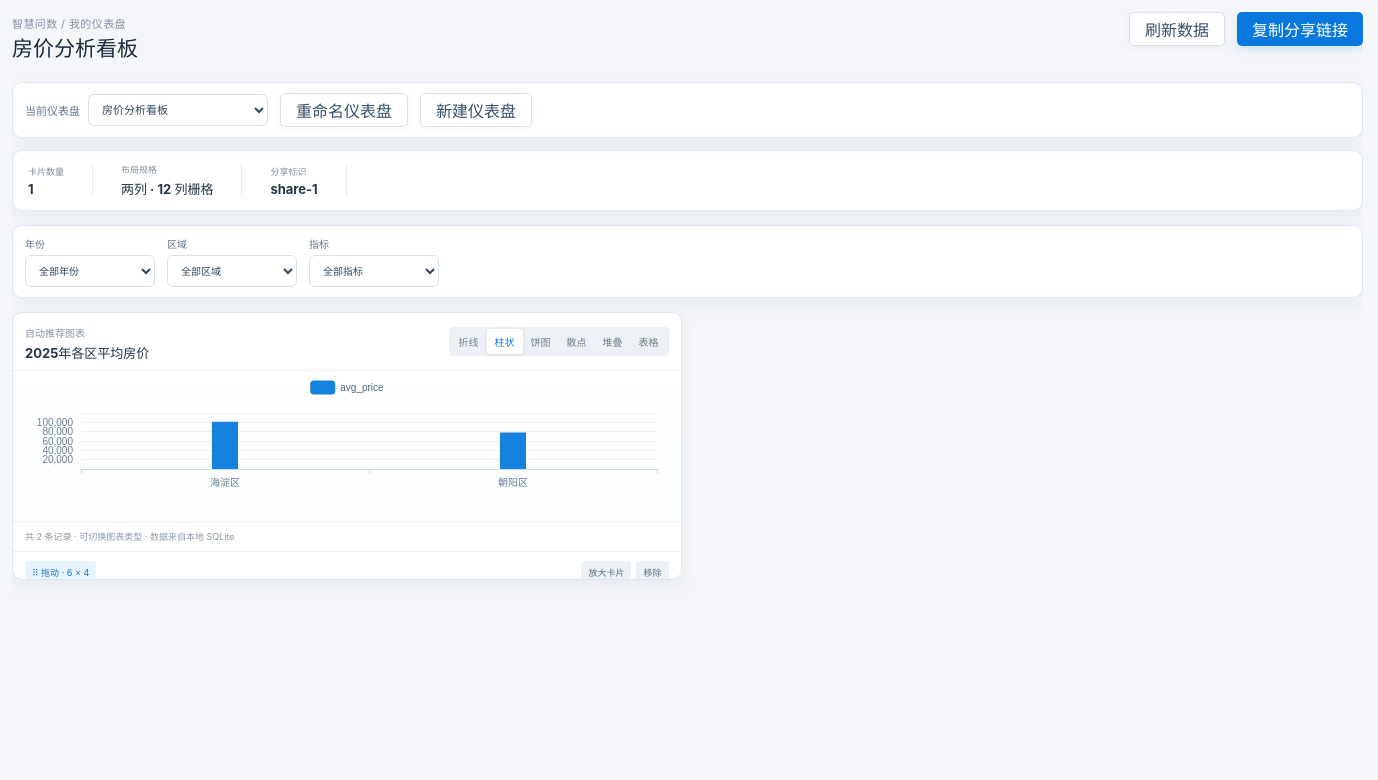
Test: does not rename a dashboard with a blank name
Check: the heading "房价分析看板" is shown, box [12,36,138,61]
Click the button "重命名仪表盘": [344, 110] box [280,93,408,127]
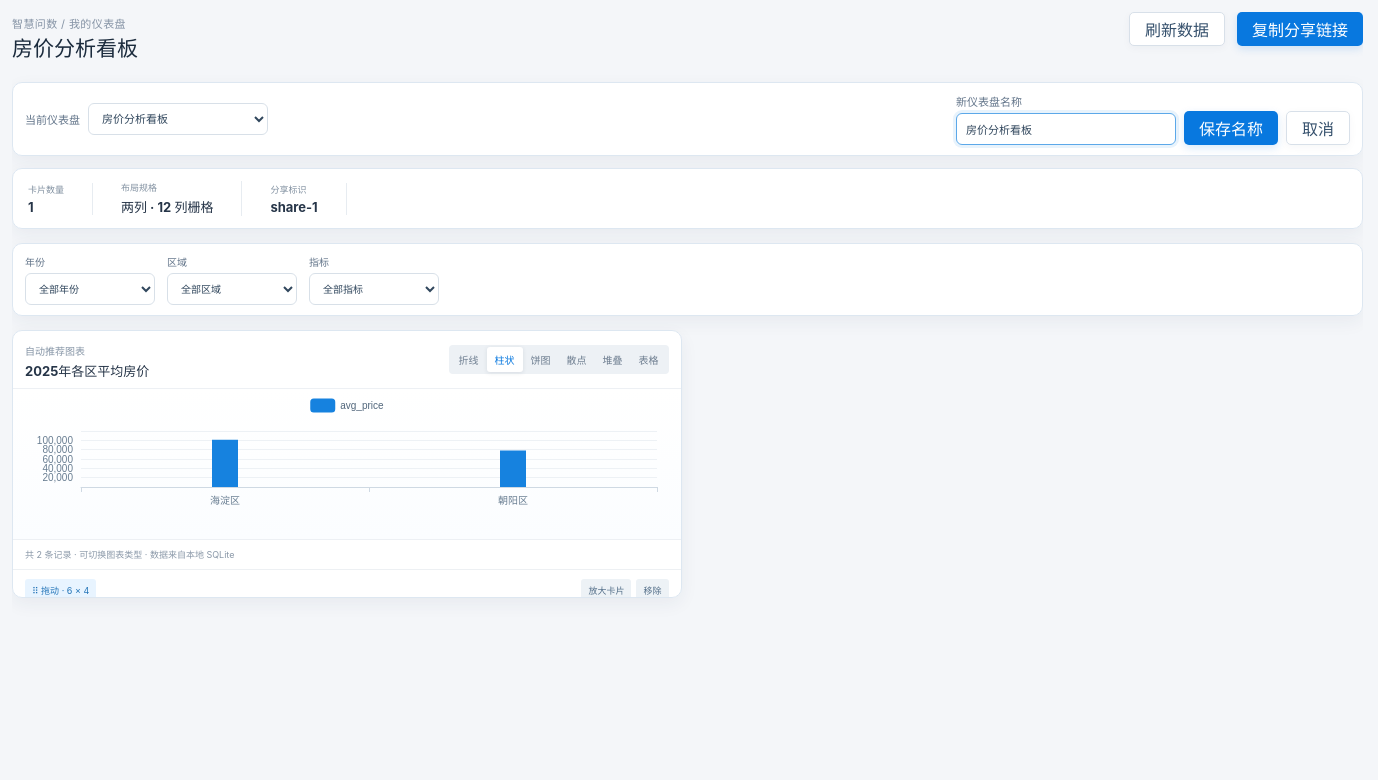
Clear the field labelled "新仪表盘名称": [1066, 129] box [956,113,1176,145]
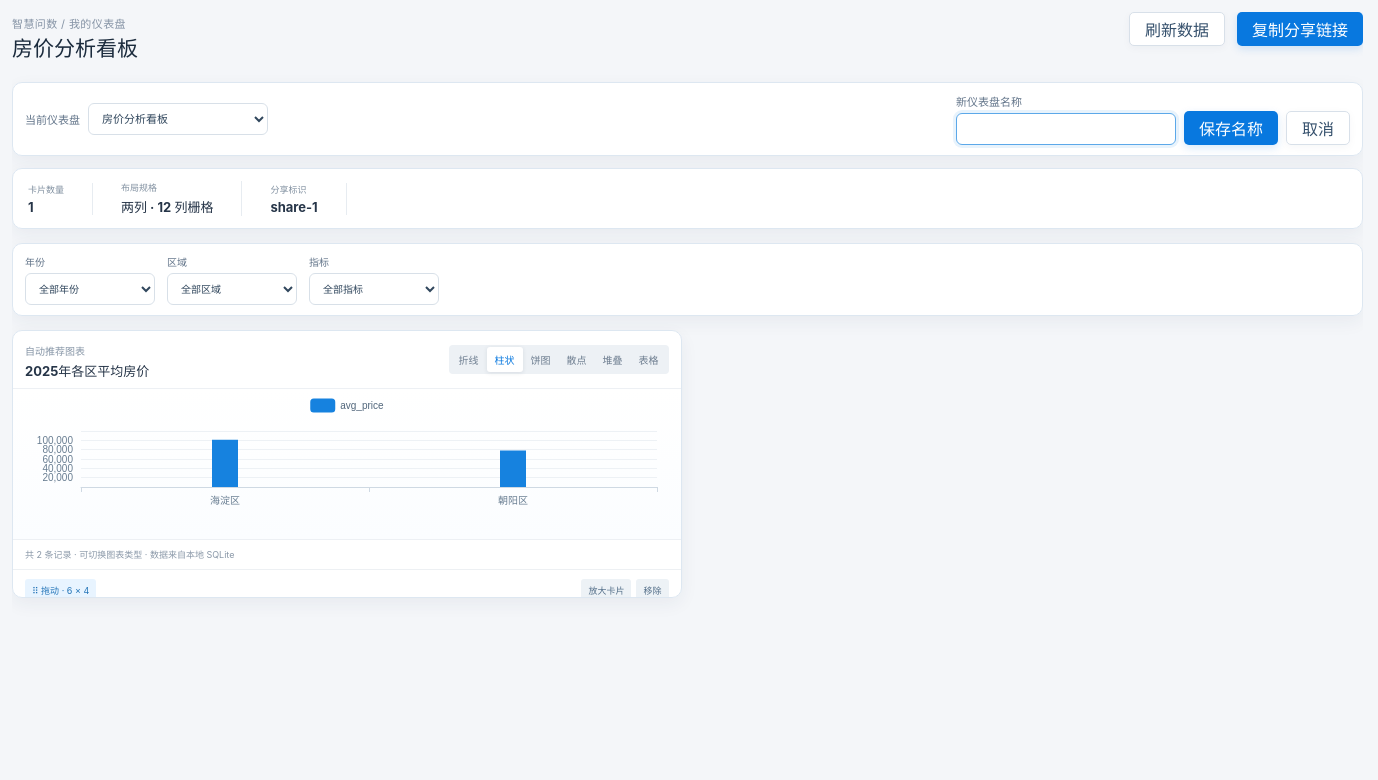
Click the button "保存名称": [1231, 128] box [1184,111,1278,145]
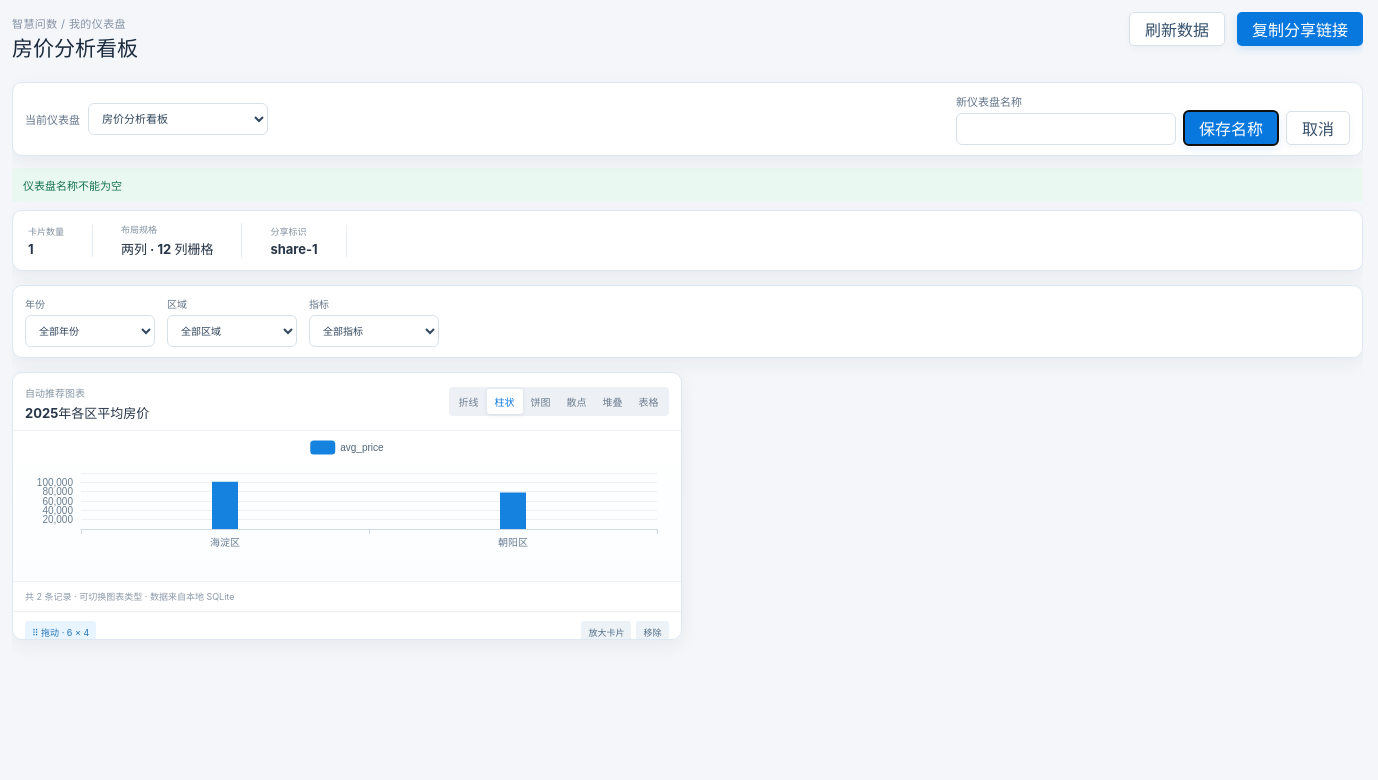
Check: the text "仪表盘名称不能为空" is shown, box [12,168,1363,202]
